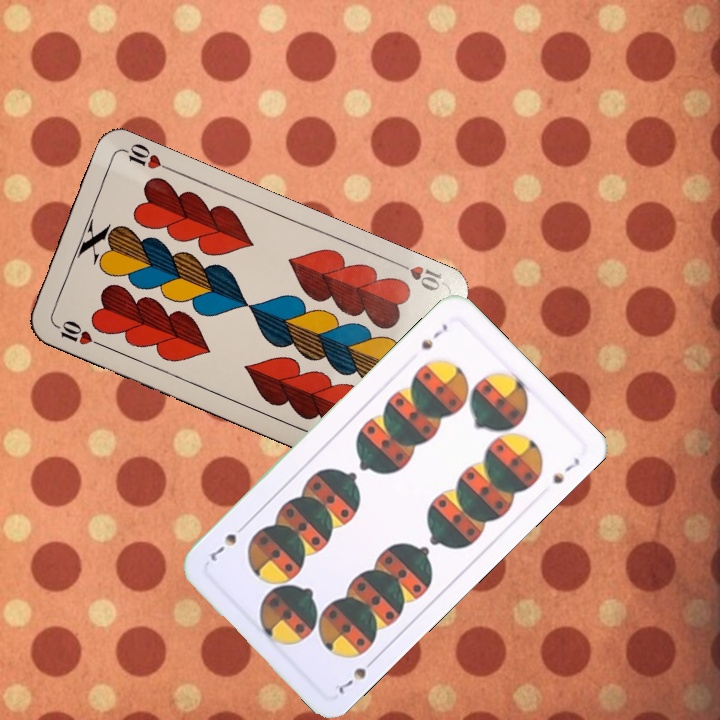H10: (389, 256, 446, 295), (48, 316, 104, 349)
S7: (334, 663, 369, 697), (417, 319, 450, 352)
